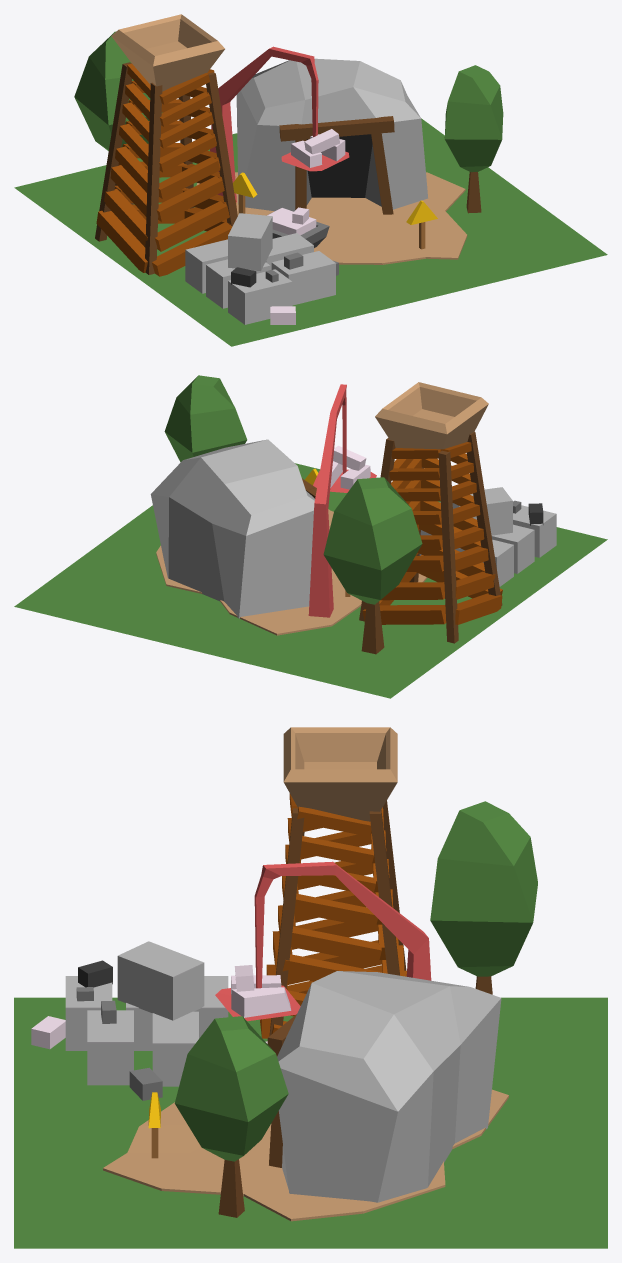
Rendered from Quarry[2].fbx.
The picture shows the model from 3 angles, top to bottom: view 1: azimuth 30°, elevation 25°; view 2: azimuth 150°, elevation 25°; view 3: azimuth 270°, elevation 25°; orthographic projection. The views are drawn at different scales.
Visible parts, largest first — view 1: Body; view 2: Body; view 3: Body.
Part boxes in pixels (x1,y1,x2,y2): Body: [14, 14, 607, 346]; Body: [14, 375, 607, 698]; Body: [14, 727, 607, 1248].
Bounding box in the file's own units: 986 × 543 × 986.
